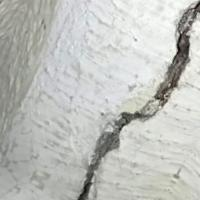crack: (80, 0, 199, 199)
